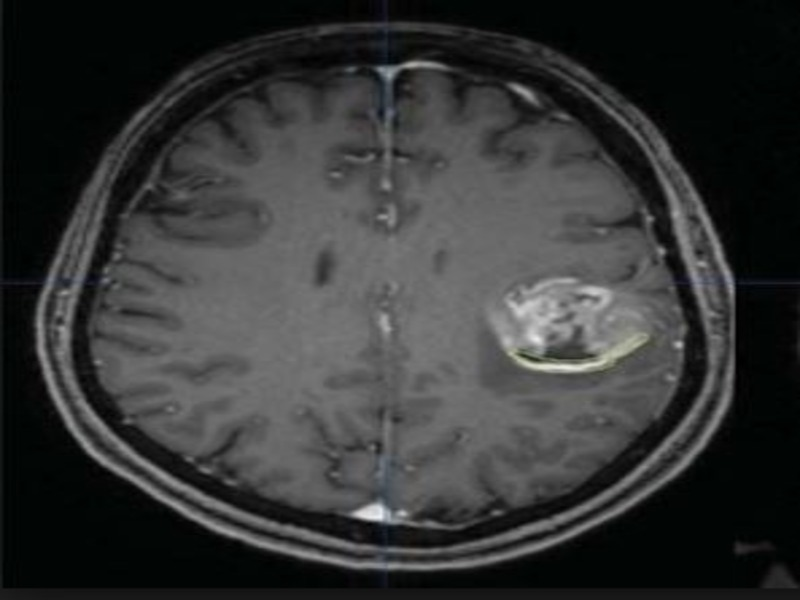tumor: (489, 268, 652, 388)
